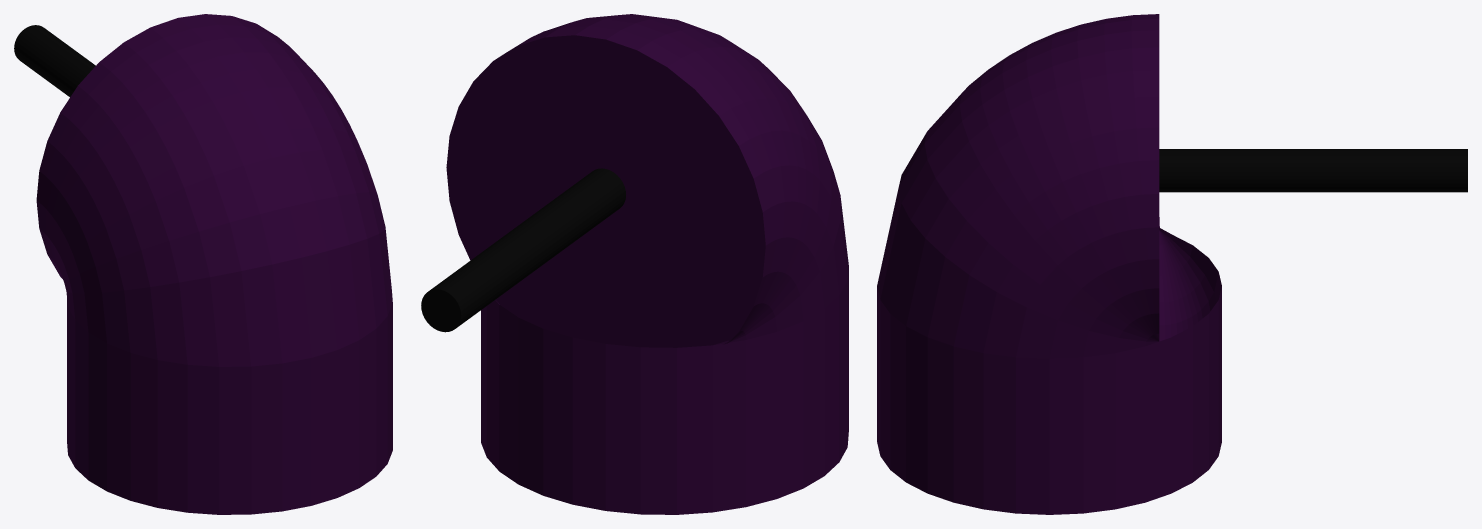
Rendered from protectiontower2 1.fbx.
3 views of the same model, side by side, from view 1: azimuth 30°, elevation 25°; view 2: azimuth 150°, elevation 25°; view 3: azimuth 270°, elevation 25° (orthographic). The views are drawn at different scales.
Parts seen in each view (by area): view 1: Cylinder, Cylinder.001; view 2: Cylinder, Cylinder.001; view 3: Cylinder, Cylinder.001.
Part boxes in pixels (x1,y1,x2,y2): Cylinder: (36, 14, 392, 514); Cylinder.001: (14, 25, 95, 96); Cylinder: (446, 14, 848, 514); Cylinder.001: (421, 168, 625, 332); Cylinder: (877, 14, 1221, 514); Cylinder.001: (1159, 149, 1467, 192).
Bounding box in the file's own units: 331 × 437 × 568.
